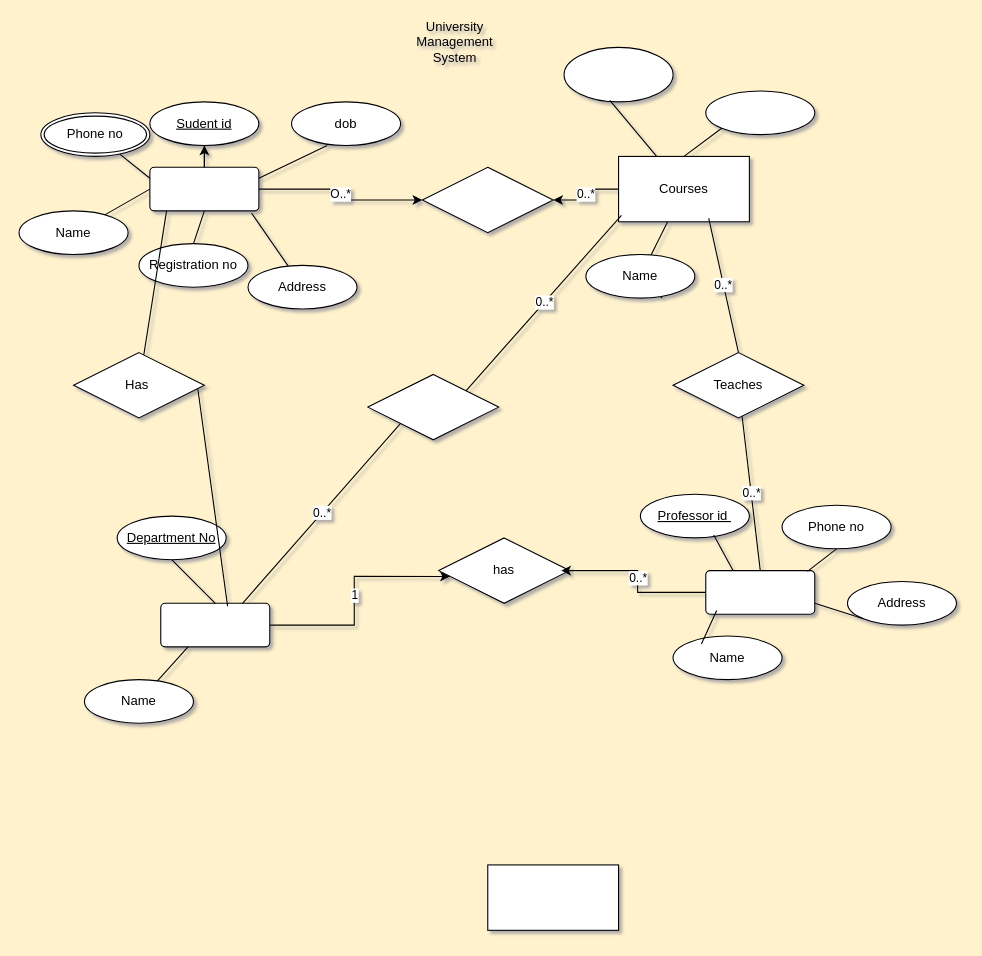
Image size: 982x956. Some labels were removed from this diagram. Here are the shapes that lost their labels. From the top down, the box of each, then its label:
(563, 46, 673, 102): Course Id
(705, 90, 815, 135): Credits
(149, 166, 259, 211): Student
(421, 166, 553, 233): Enrolled in
(367, 373, 499, 440): Offers
(705, 570, 815, 614): Professor
(160, 602, 270, 647): Department
(487, 864, 619, 930): Administration
